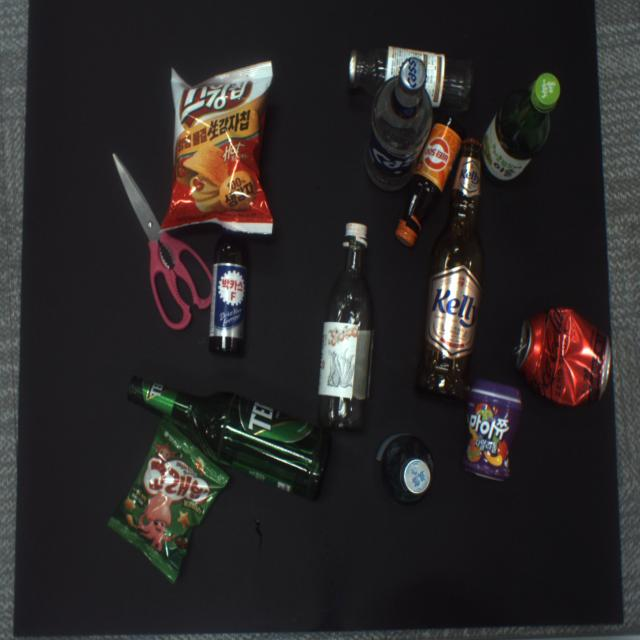beer-bottle: (128, 378, 331, 500), (417, 139, 486, 401)
soju-bottle: (317, 223, 375, 430)
